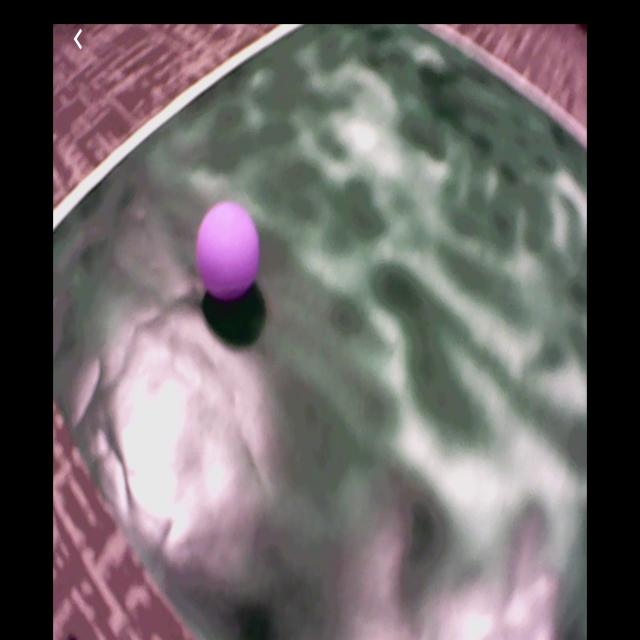ball: (198, 205, 259, 294)
